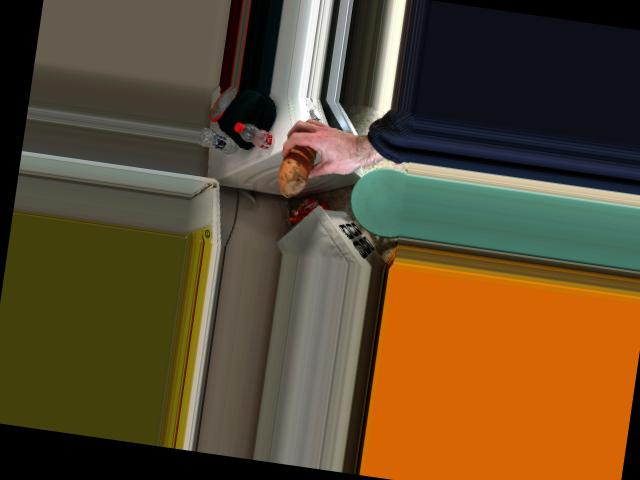sweet_potato: (275, 137, 326, 188)
